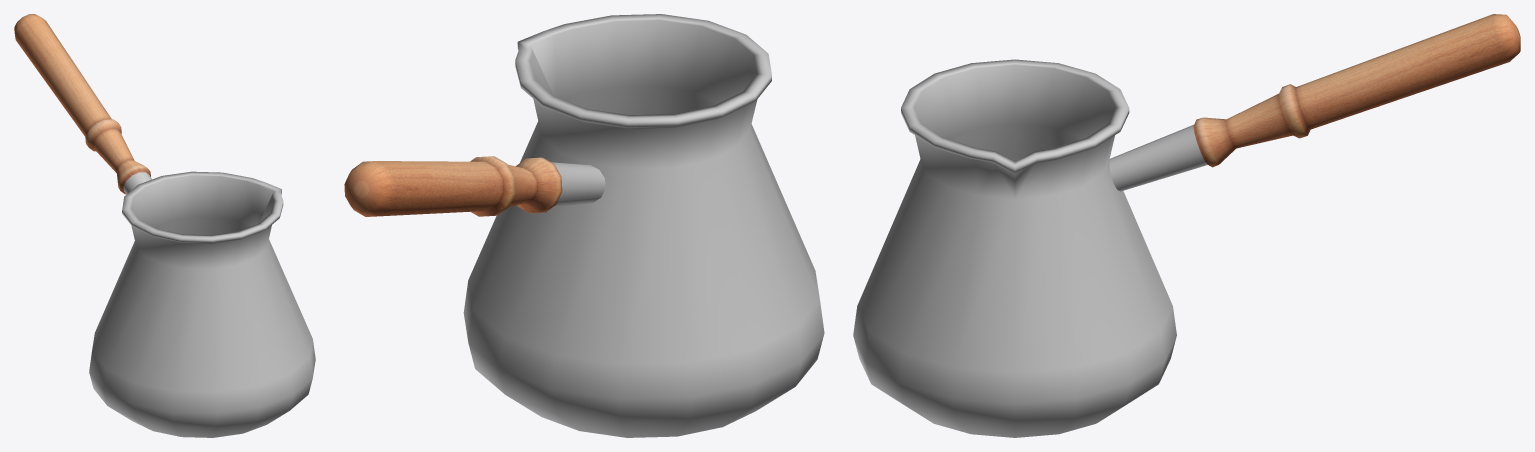
File: Cezve_Large.fbx
The picture shows the model from 3 angles, left to right: view 1: azimuth 30°, elevation 25°; view 2: azimuth 150°, elevation 25°; view 3: azimuth 270°, elevation 25°; orthographic projection. The views are drawn at different scales.
Parts seen in each view (by area): view 1: Cezve_Large; view 2: Cezve_Large; view 3: Cezve_Large.
Boxes of the visible parts, x1,y1,x2,y2 form: Cezve_Large: (14, 14, 315, 437); Cezve_Large: (344, 14, 824, 437); Cezve_Large: (853, 14, 1520, 437).
Size of the model in its own units: 38.36 by 48.73 by 79.08.
